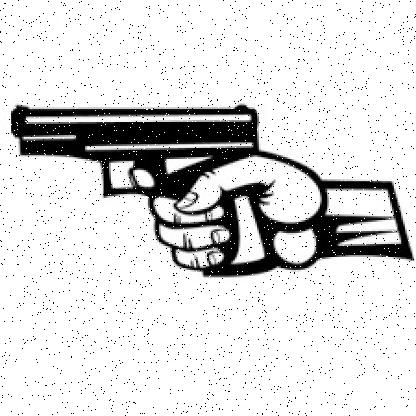pistol: (11, 98, 272, 277)
